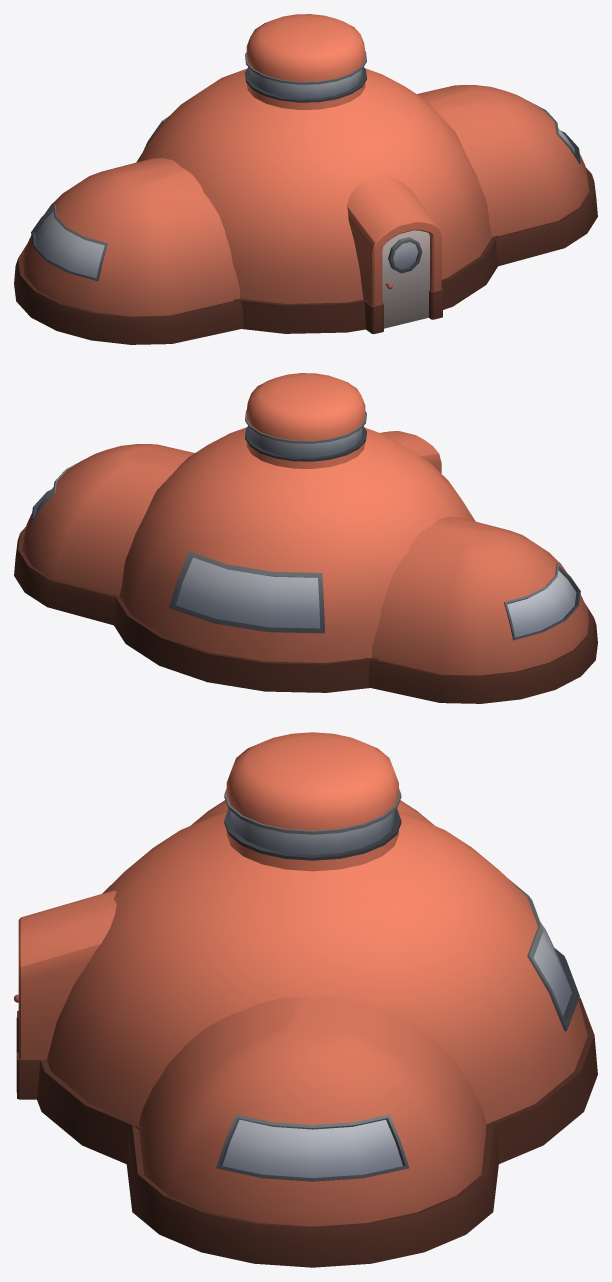
Rendered from SM_House_04.fbx.
3 renders of one model, top to bottom at view 1: azimuth 30°, elevation 25°; view 2: azimuth 150°, elevation 25°; view 3: azimuth 270°, elevation 25°, orthographic. The views are drawn at different scales.
Visible parts, largest first — view 1: House_04; view 2: House_04; view 3: House_04.
Boxes of the visible parts, left/top/right/bottom form: House_04: left=14, top=14, right=597, bottom=344; House_04: left=14, top=373, right=597, bottom=703; House_04: left=14, top=732, right=597, bottom=1267.
Size of the model in its own units: 975 by 378 by 620.
